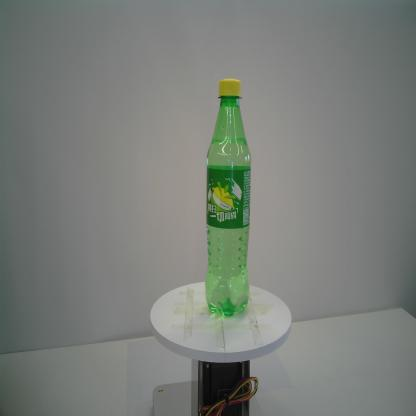Drink: (204, 77, 252, 317)
